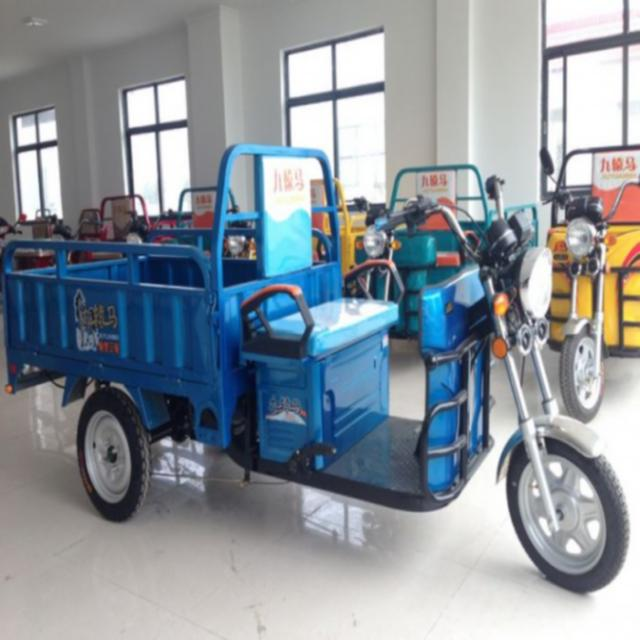tricycle: (1, 140, 627, 592), (534, 138, 639, 421)
